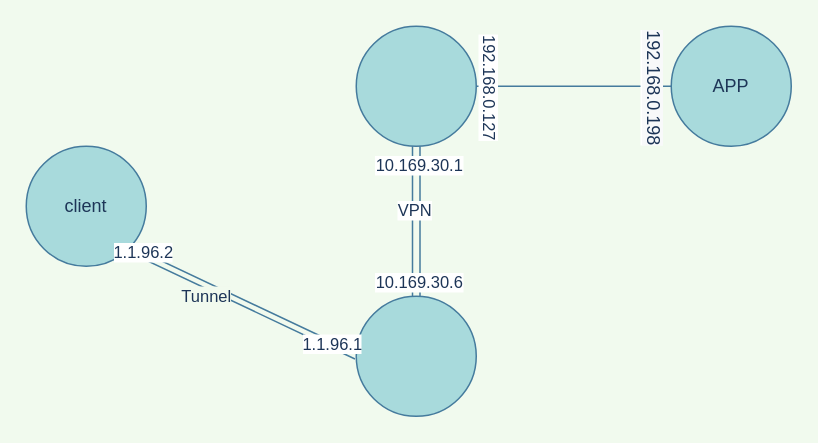
Some shapes in this 818 by 443 pixel diagram are drawn without their labels. The shapes that lost their labels are listed below. From the top down, each one's centre as x and y in pixels, then its label:
At (415,85): "华为云 124.70.209.218".
At (415,355): "公司内网 192.168.100.170".
